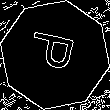P_E: (26, 31, 84, 79)
